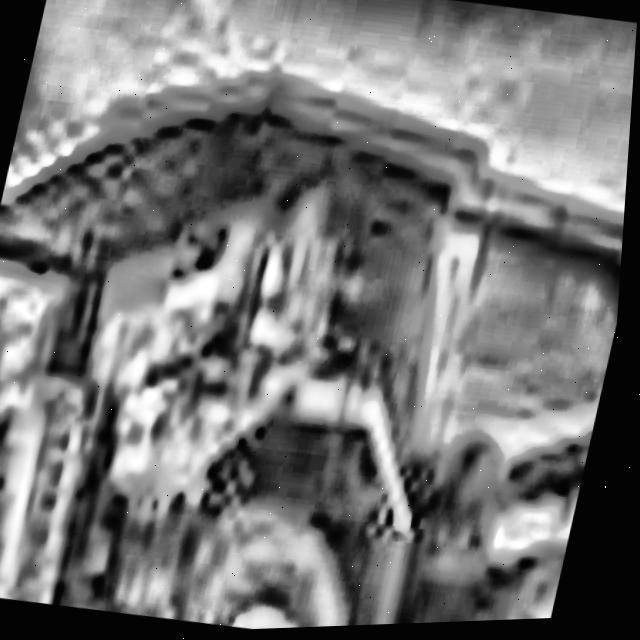dump_truck: (0, 5, 639, 640)
